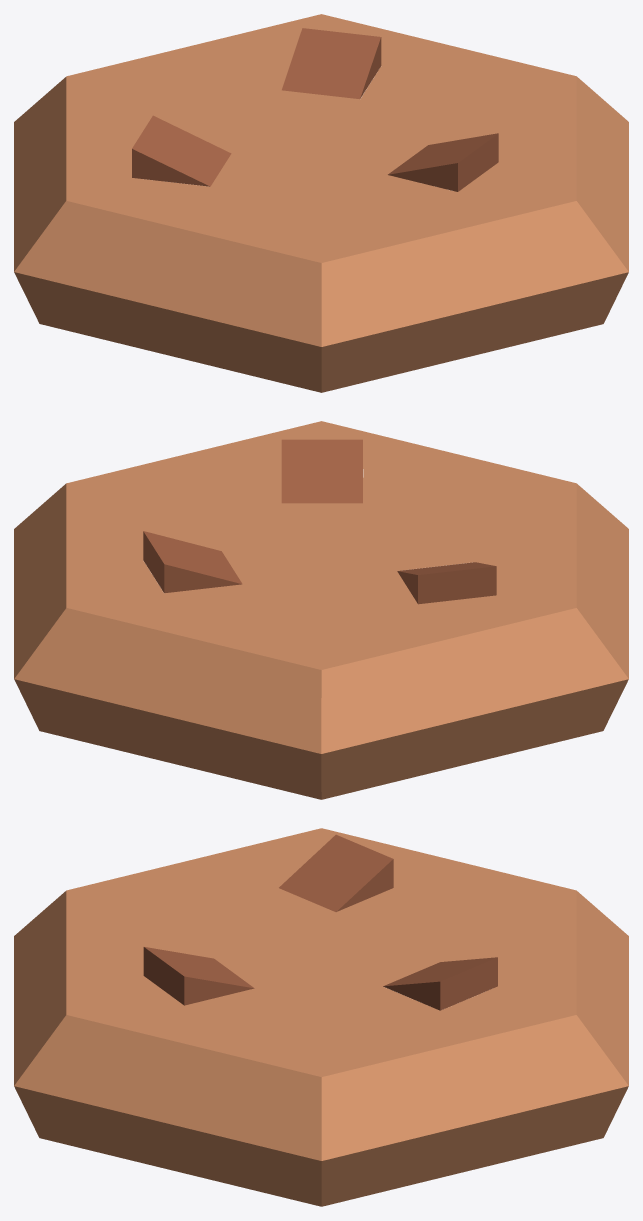
The model's file is cookie.m.glb.
3 renders of one model, top to bottom at view 1: azimuth 30°, elevation 25°; view 2: azimuth 150°, elevation 25°; view 3: azimuth 270°, elevation 25°, orthographic.
Visible parts, largest first — view 1: cookie; view 2: cookie; view 3: cookie.
Part boxes in pixels (x1,y1,x2,y2): cookie: (14,14,628,392); cookie: (14,421,628,799); cookie: (14,828,628,1206).
Bounding box in the file's own units: 0.05 × 0.0113 × 0.0433.
